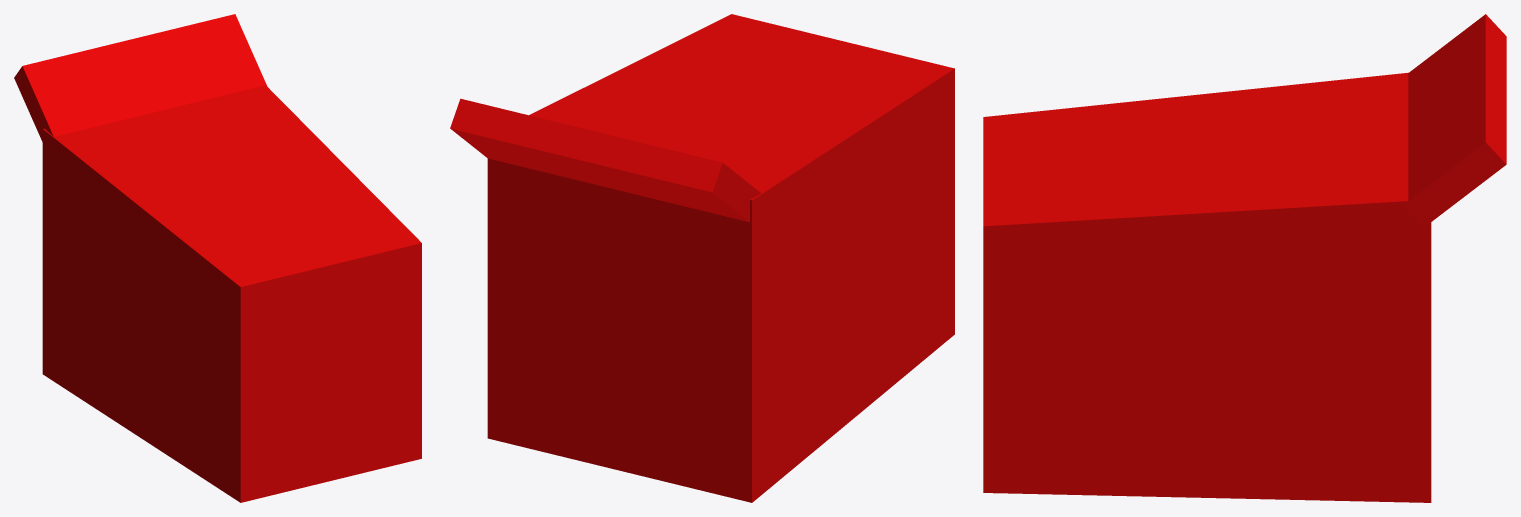
Rendered from SM_Prop_ShoppingCart_01_Collision.fbx.
The picture shows the model from 3 angles, left to right: view 1: azimuth 30°, elevation 25°; view 2: azimuth 150°, elevation 25°; view 3: azimuth 270°, elevation 25°; orthographic projection. The views are drawn at different scales.
Visible parts, largest first — view 1: SM_Prop_ShoppingCart_01_Collision; view 2: SM_Prop_ShoppingCart_01_Collision; view 3: SM_Prop_ShoppingCart_01_Collision.
Boxes of the visible parts, bbox=[...] form: SM_Prop_ShoppingCart_01_Collision: bbox=[14, 14, 421, 502]; SM_Prop_ShoppingCart_01_Collision: bbox=[450, 14, 954, 502]; SM_Prop_ShoppingCart_01_Collision: bbox=[983, 14, 1506, 502].
Size of the model in its own units: 79.35 by 103 by 136.
